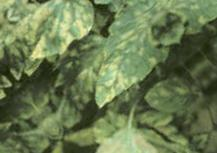Tomato mold leaf: (53, 0, 184, 116), (14, 0, 102, 67), (81, 120, 171, 153)
